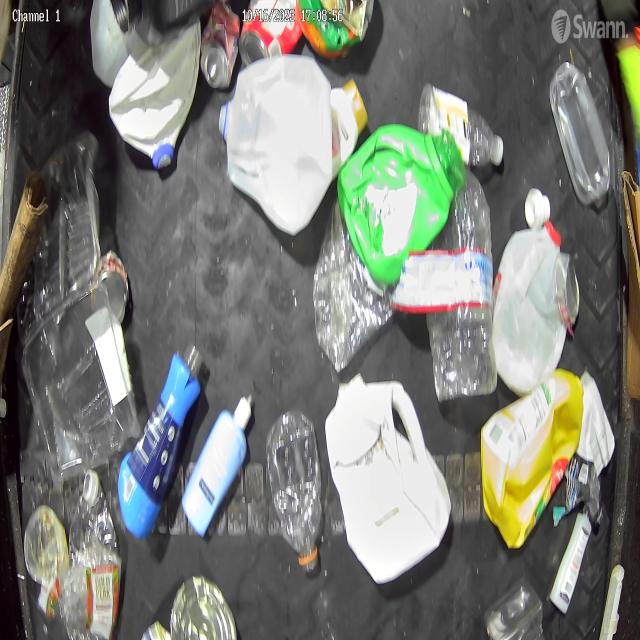can: (238, 1, 303, 62), (200, 1, 238, 91), (92, 248, 130, 318)
milk_jug: (325, 374, 448, 582), (221, 52, 330, 230), (112, 16, 198, 174), (491, 219, 564, 389)
non_white_jug: (341, 125, 466, 285), (481, 366, 587, 544)
plastic_bottle: (448, 180, 493, 387), (550, 62, 610, 206), (70, 470, 119, 636), (269, 409, 320, 563), (418, 82, 502, 174), (172, 575, 238, 639)
